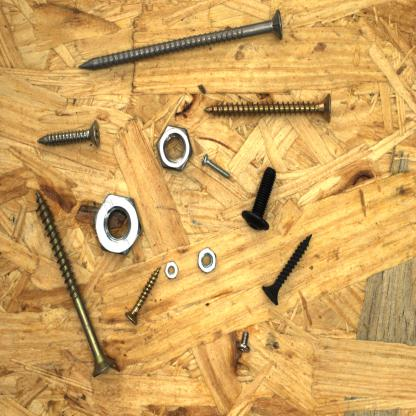screw: (33, 187, 117, 381), (76, 7, 286, 72), (202, 89, 336, 127), (259, 231, 315, 308), (240, 164, 280, 235), (122, 264, 163, 328), (34, 116, 102, 154), (201, 152, 233, 181), (235, 325, 254, 355)
